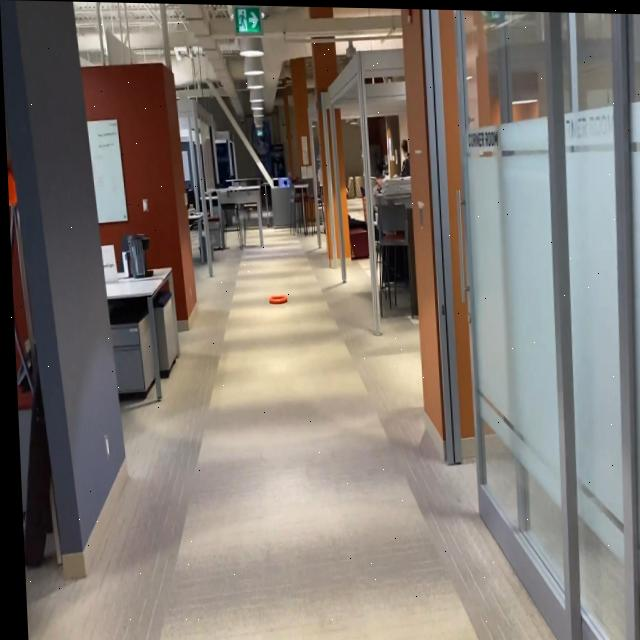note: (266, 291, 286, 305)
